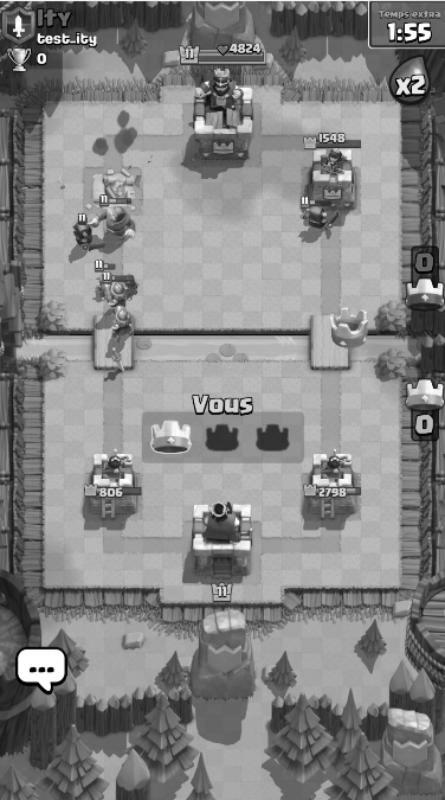archere: (95, 260, 116, 301), (122, 273, 140, 302)
chevalier: (83, 194, 138, 247)
mini_PEKKA: (299, 196, 341, 231), (71, 213, 107, 253)
mousquetaire: (101, 272, 129, 317), (109, 304, 135, 342)
